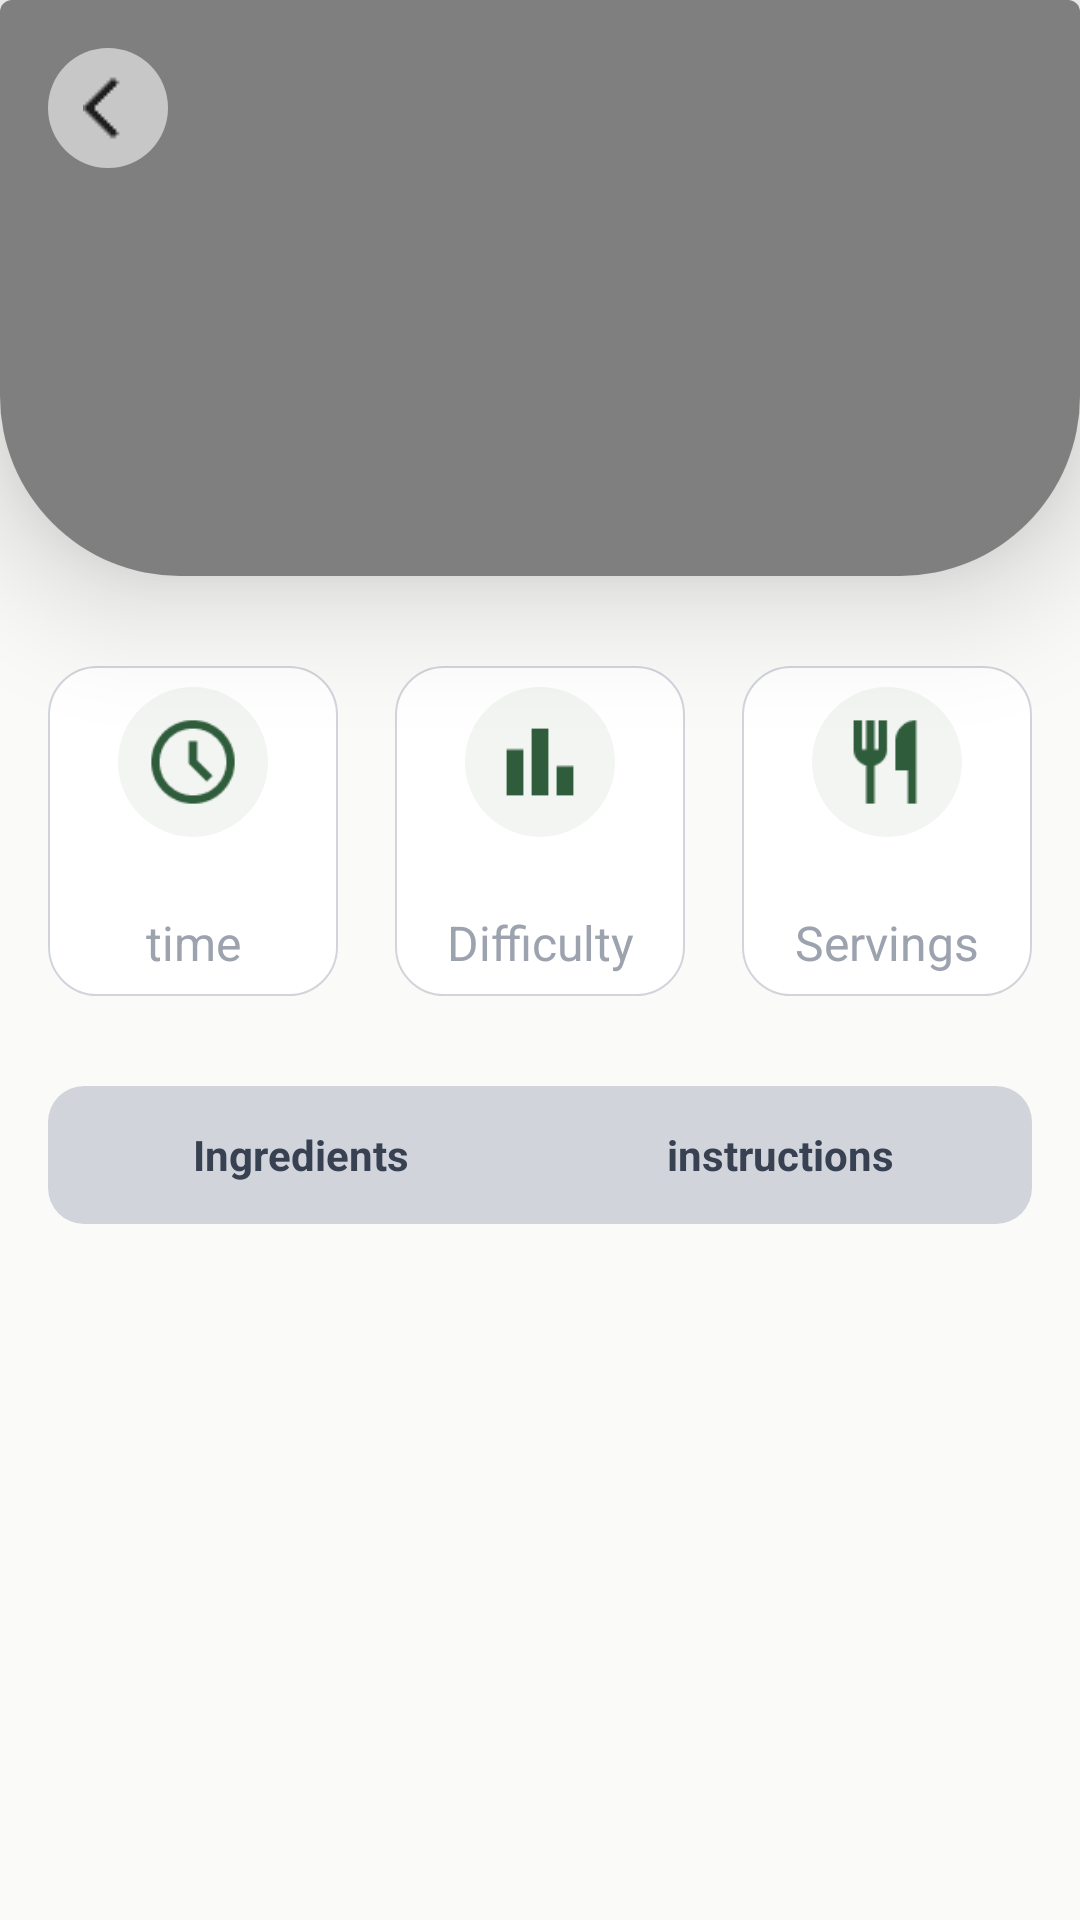

Named icons in this screenshot (1080w x 1920h) and their centers, point (x, y):
arrow back: point (108, 108)
